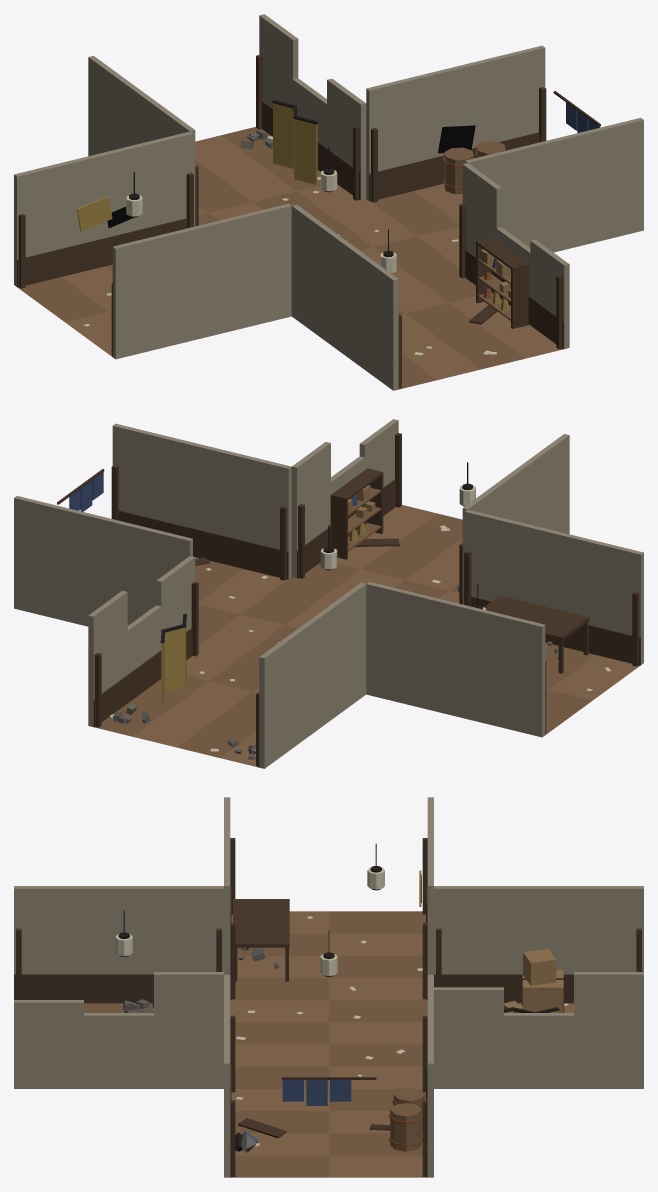
The picture shows the model from 3 angles, top to bottom: view 1: azimuth 30°, elevation 25°; view 2: azimuth 150°, elevation 25°; view 3: azimuth 270°, elevation 25°; orthographic projection. The views are drawn at different scales.
Visible parts, largest first — view 1: +_A, +_A_Deco; view 2: +_A, +_A_Deco; view 3: +_A, +_A_Deco.
Part boxes in pixels (x1,y1,x2,y2): +_A: (14, 14, 643, 390); +_A_Deco: (17, 55, 600, 389); +_A: (14, 419, 643, 768); +_A_Deco: (57, 433, 640, 767); +_A: (14, 797, 643, 1177); +_A_Deco: (14, 838, 641, 1177).
Size of the model in its own units: 2 by 2 by 0.408.
